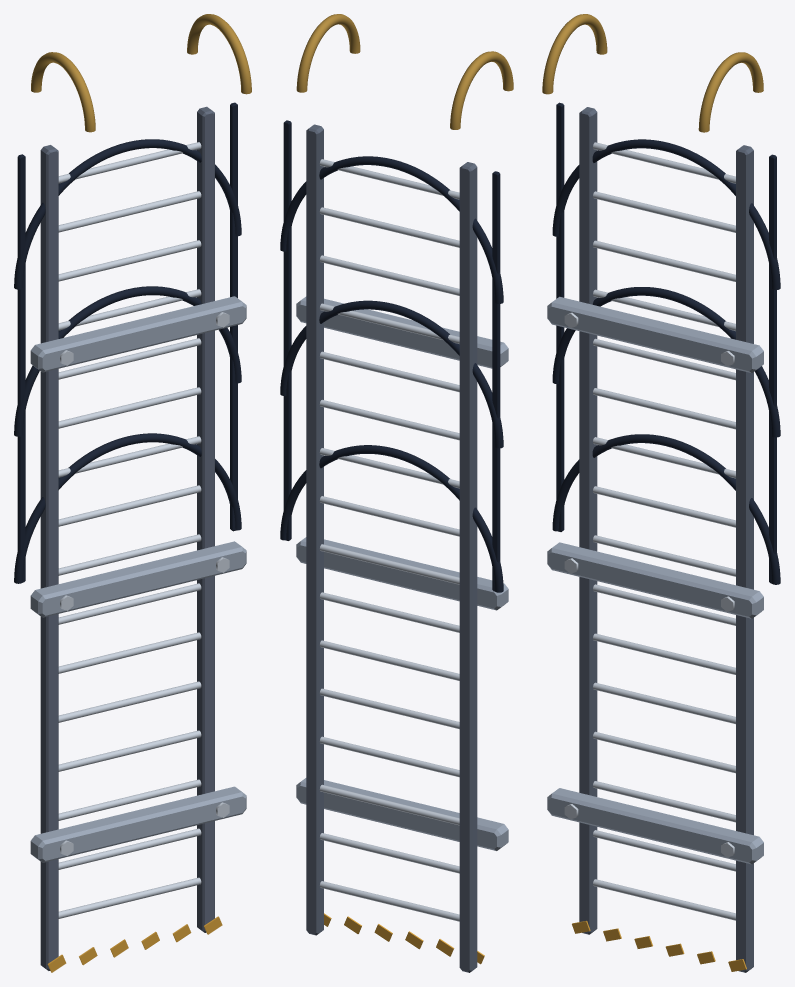
Rendered from shared_ladder_500.glb.
3 views of the same model, side by side, from view 1: azimuth 30°, elevation 25°; view 2: azimuth 150°, elevation 25°; view 3: azimuth 330°, elevation 25° (orthographic). The views are drawn at different scales.
Parts seen in each view (by area): view 1: ladder_stringer-1, ladder_stringer1, ladder_flange2, ladder_flange1, ladder_flange0, ladder_hoop_rail-1, ladder_hoop0, ladder_hoop2, ladder_hoop_rail1, ladder_hoop1, ladder_hook-1, ladder_hook1 (+17 smaller); view 2: ladder_stringer-1, ladder_stringer1, ladder_flange0, ladder_flange1, ladder_flange2, ladder_hoop_rail1, ladder_hoop_rail-1, ladder_hoop2, ladder_hoop1, ladder_hoop0, ladder_hook1, ladder_hook-1 (+17 smaller); view 3: ladder_stringer-1, ladder_stringer1, ladder_flange2, ladder_flange0, ladder_flange1, ladder_hoop_rail-1, ladder_hoop0, ladder_hoop2, ladder_hoop_rail1, ladder_hoop1, ladder_hook-1, ladder_hook1 (+17 smaller).
Boxes of the visible parts, <box> form: ladder_stringer-1: <box>40,145,58,970</box>; ladder_stringer1: <box>197,106,214,932</box>; ladder_flange2: <box>30,296,246,372</box>; ladder_flange1: <box>30,541,246,617</box>; ladder_flange0: <box>30,786,246,862</box>; ladder_hoop_rail-1: <box>17,154,25,582</box>; ladder_hoop0: <box>14,433,241,583</box>; ladder_hoop2: <box>14,139,241,289</box>; ladder_hoop_rail1: <box>230,102,237,531</box>; ladder_hoop1: <box>14,286,241,436</box>; ladder_hook-1: <box>31,52,95,132</box>; ladder_hook1: <box>187,14,251,94</box>; ladder_stringer-1: <box>459,162,477,972</box>; ladder_stringer1: <box>306,124,323,935</box>; ladder_flange0: <box>296,778,508,850</box>; ladder_flange1: <box>296,537,508,610</box>; ladder_flange2: <box>296,296,508,368</box>; ladder_hoop_rail1: <box>283,120,291,540</box>; ladder_hoop_rail-1: <box>492,171,500,591</box>; ladder_hoop2: <box>280,156,503,303</box>; ladder_hoop1: <box>280,300,503,448</box>; ladder_hoop0: <box>280,445,503,592</box>; ladder_hook1: <box>296,14,360,92</box>; ladder_hook-1: <box>450,51,513,129</box>; ladder_stringer-1: <box>579,107,597,934</box>; ladder_stringer1: <box>736,145,753,972</box>; ladder_flange2: <box>547,296,763,373</box>; ladder_flange0: <box>547,788,763,864</box>; ladder_flange1: <box>547,542,763,618</box>; ladder_hoop_rail-1: <box>556,102,564,531</box>; ladder_hoop0: <box>552,434,780,584</box>; ladder_hoop2: <box>552,139,780,289</box>; ladder_hoop_rail1: <box>769,154,776,583</box>; ladder_hoop1: <box>552,287,780,437</box>; ladder_hook-1: <box>542,14,607,94</box>; ladder_hook1: <box>698,52,763,132</box>.
Size of the model in its own units: 1.45 by 5.64 by 0.66.
